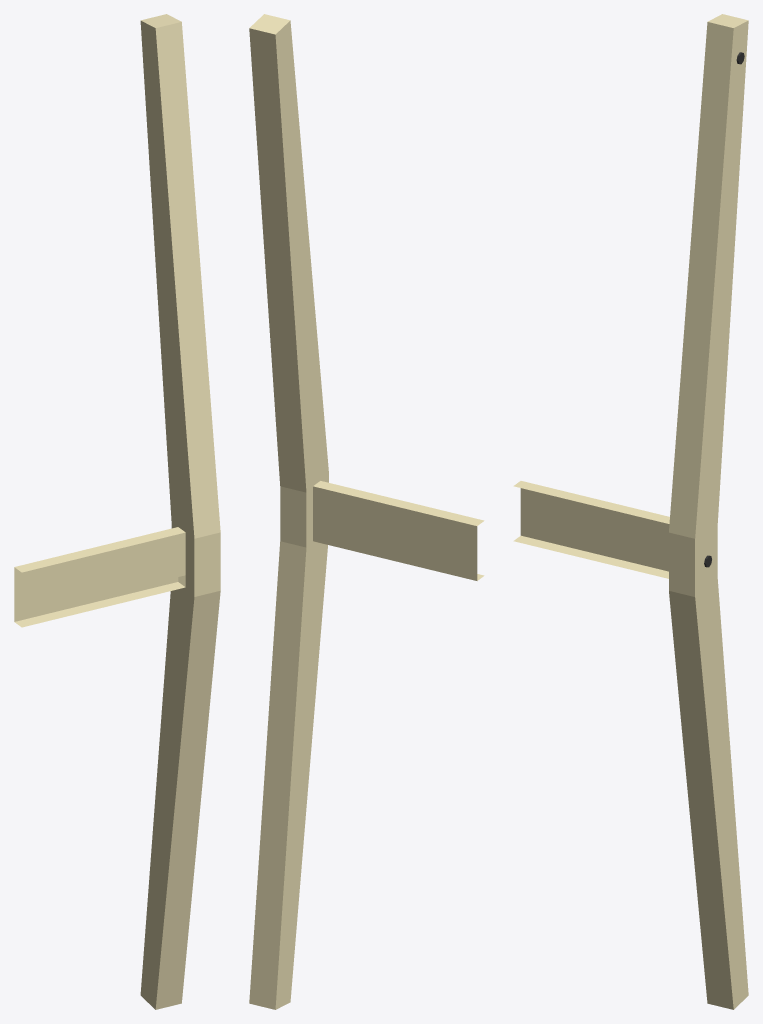
The model's file is leg4.obj.
3 views of the same model, side by side, from view 1: azimuth 30°, elevation 25°; view 2: azimuth 150°, elevation 25°; view 3: azimuth 330°, elevation 25° (orthographic).
Parts seen in each view (by area): view 1: leg4; view 2: leg4; view 3: leg4.
Part boxes in pixels (x1,y1,x2,y2): leg4: [14, 14, 220, 1009]; leg4: [249, 14, 484, 1009]; leg4: [513, 14, 748, 1009].
Bounding box in the file's own units: 7.32 × 35.74 × 3.55.
